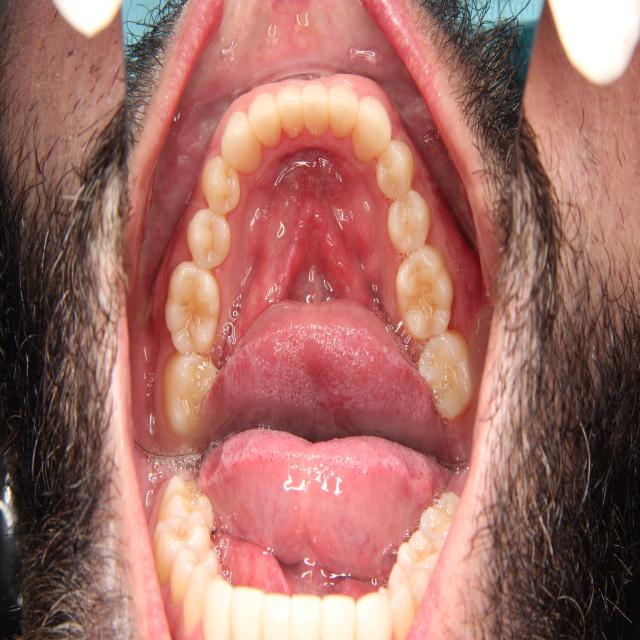tooth: (389, 242, 466, 352), (410, 323, 477, 431), (156, 258, 224, 362), (157, 349, 225, 443), (212, 104, 275, 192), (383, 186, 438, 263), (181, 202, 237, 272), (349, 83, 392, 172), (195, 155, 246, 223), (325, 78, 366, 152), (295, 70, 334, 147), (377, 135, 418, 208), (247, 91, 288, 163), (271, 73, 309, 149)
